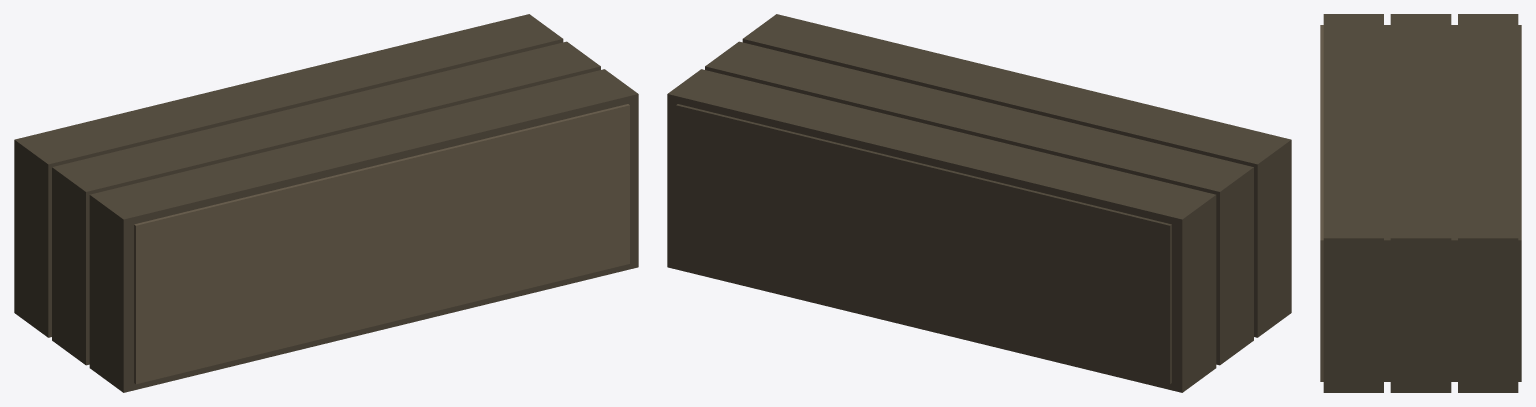
File: media-console.obj
The picture shows the model from 3 angles, left to right: view 1: azimuth 30°, elevation 25°; view 2: azimuth 150°, elevation 25°; view 3: azimuth 270°, elevation 25°; orthographic projection. The views are drawn at different scales.
Parts seen in each view (by area): view 1: media-console; view 2: media-console; view 3: media-console.
Part boxes in pixels (<box>): media-console: <box>14,14,638,392</box>; media-console: <box>667,14,1291,392</box>; media-console: <box>1320,14,1521,392</box>.
Bounding box in the file's own units: 63.2 × 20.34 × 24.
